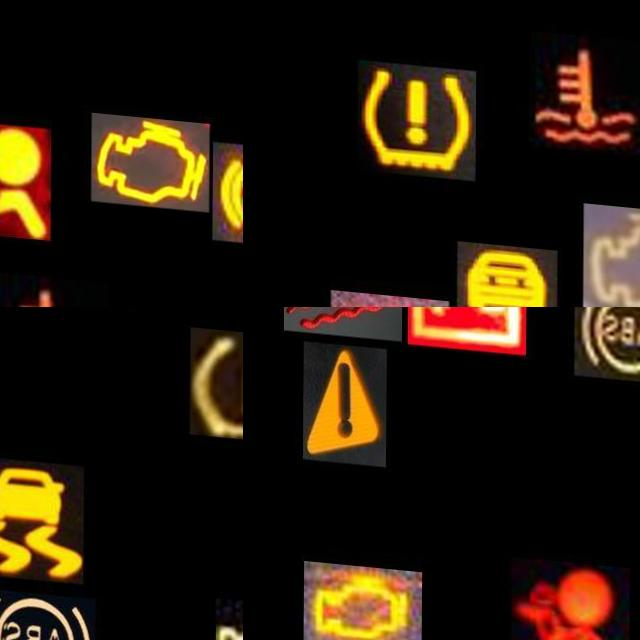Central Warning lamp: (303, 337, 387, 461)
Engine cooling system: (529, 24, 640, 147), (0, 269, 109, 307), (284, 307, 402, 335)
